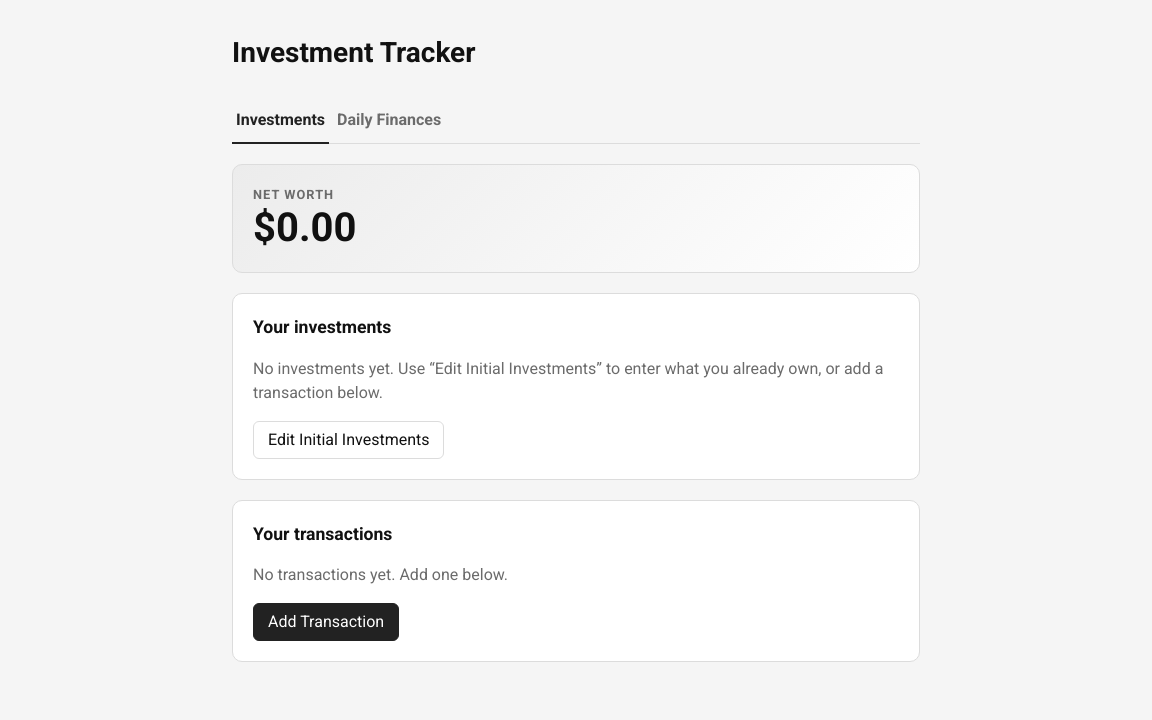
the initial investments window › shows an empty state
This screenshot has width=1152, height=720.
Click the button "Edit Initial Investments" at (349, 440), box [253,421,444,459]
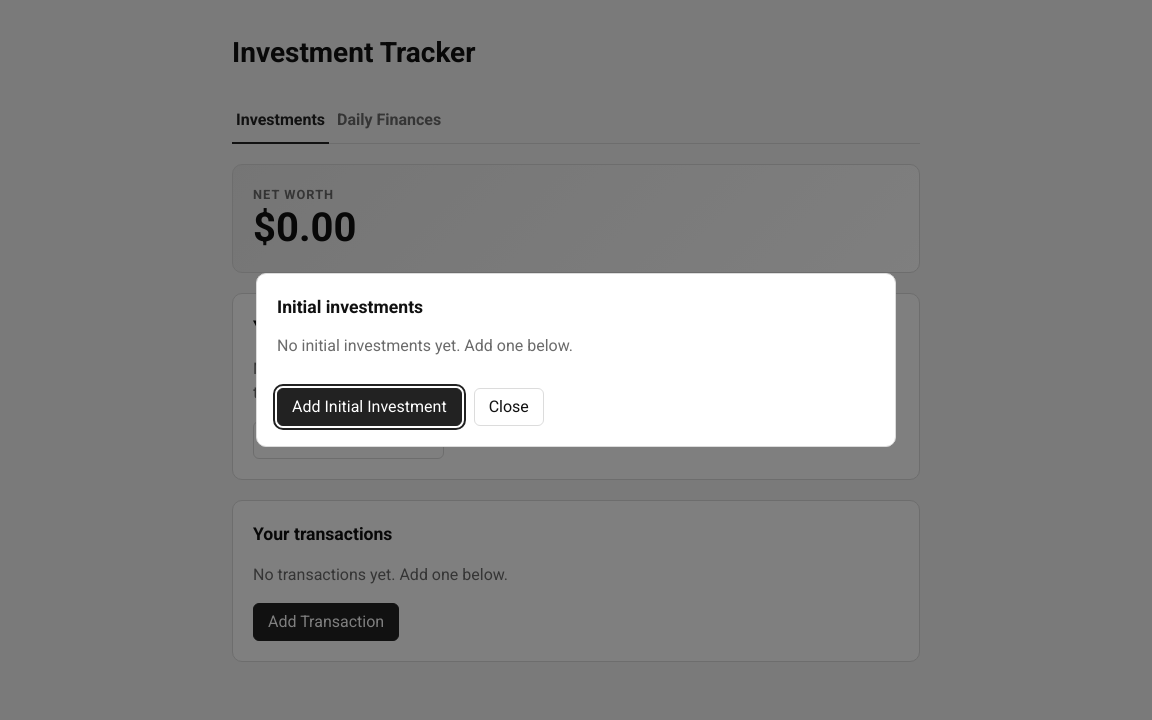
Expected: the text "No initial investments yet. Add one below." is shown, [277,336,573,355]
